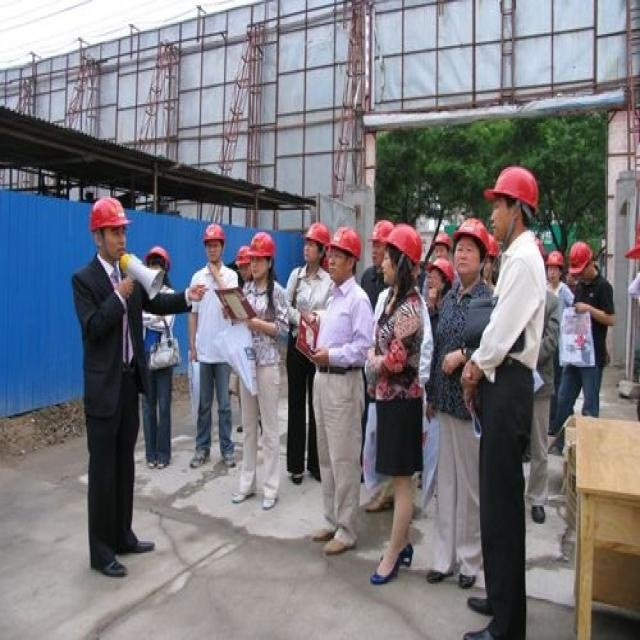Con_Casco: (494, 169, 531, 236), (91, 197, 129, 253)
